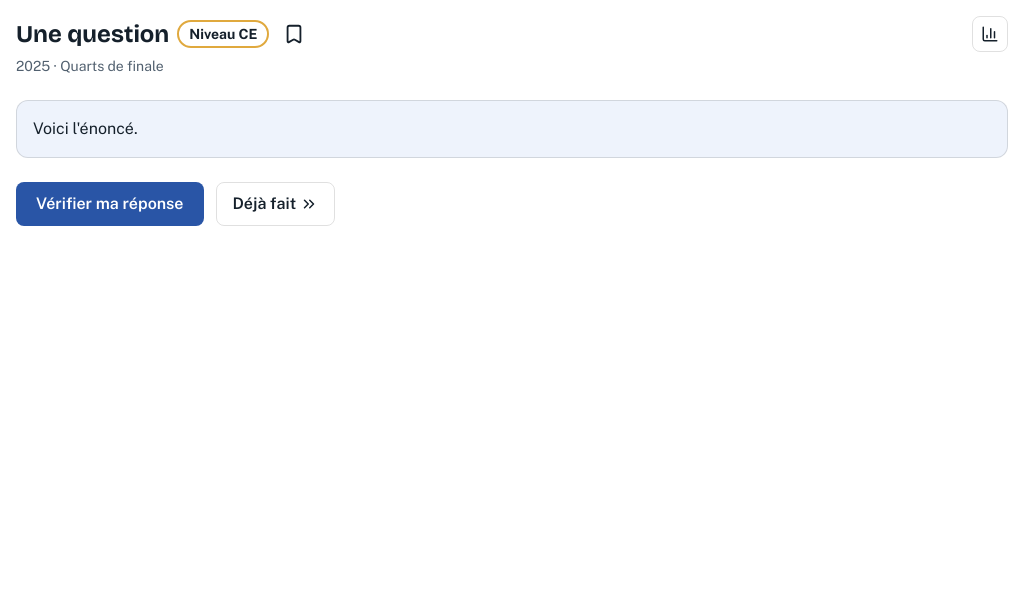
Test: TrainingQuestionPage — standard flow › revealing shows both the short answer and the detailed correction
Expected: the text "Voici l'énoncé." is shown, [33,119,138,138]
Click the button "Vérifier ma réponse".
click(110, 204)  # box [16,182,204,226]
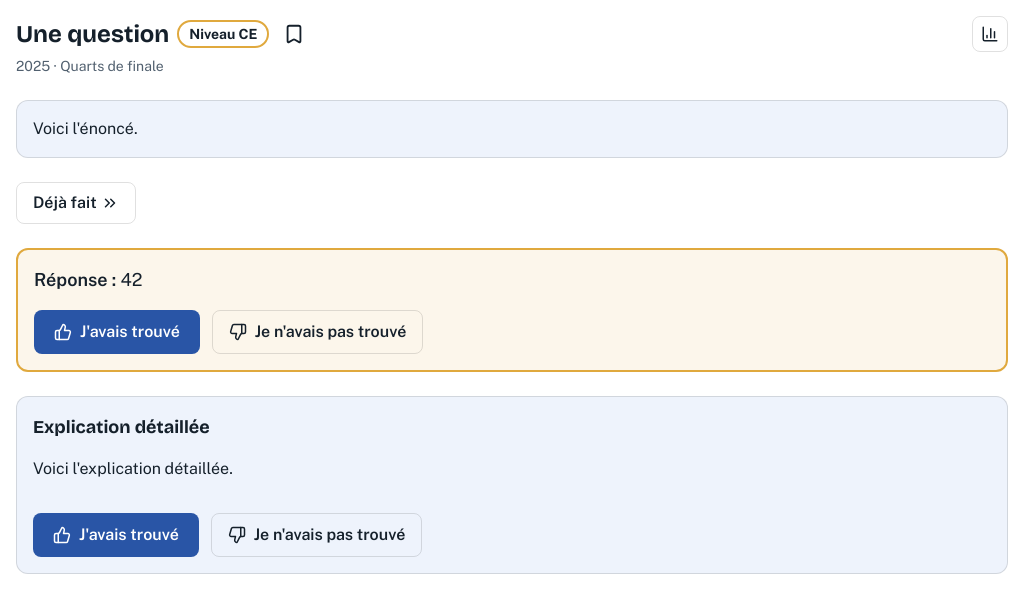
Now the text "Réponse :" is shown, box [34,269,116,290]
Now the text "42" is shown, box [120,269,142,290]
Now the heading "Explication détaillée" is shown, box [33,416,210,438]
